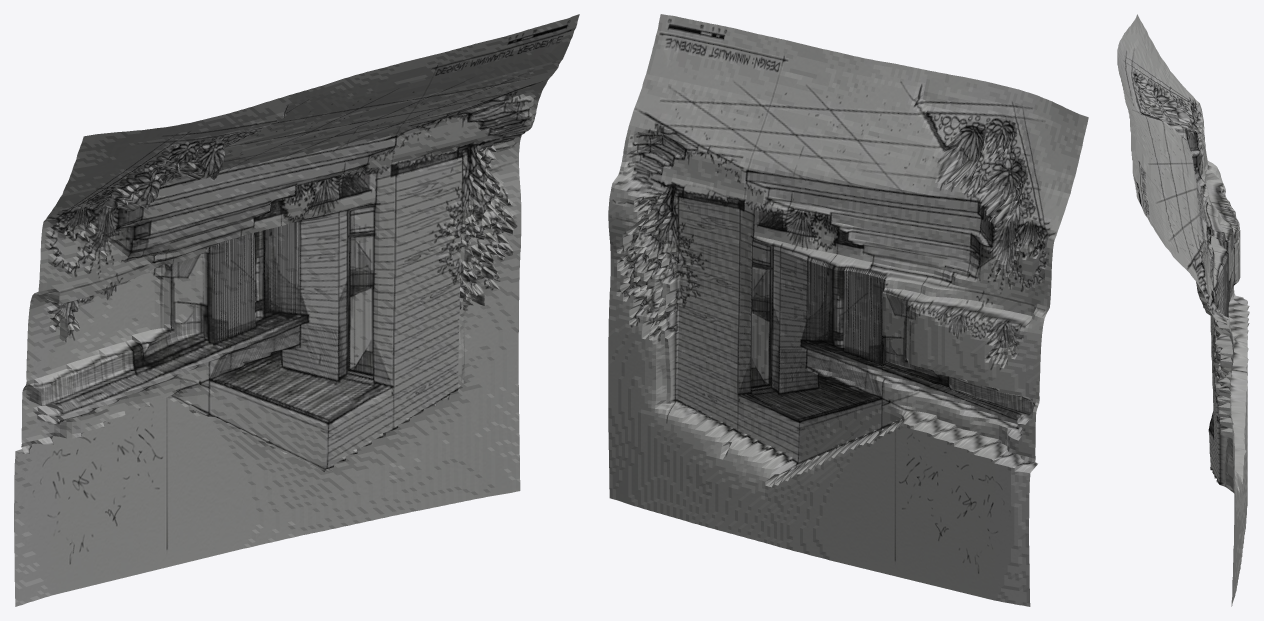
3 views of the same model, side by side, from view 1: azimuth 30°, elevation 25°; view 2: azimuth 150°, elevation 25°; view 3: azimuth 270°, elevation 25° (orthographic). The views are drawn at different scales.
Parts seen in each view (by area): view 1: world; view 2: world; view 3: world.
Boxes of the visible parts, bbox=[...] form: world: bbox=[14, 14, 579, 606]; world: bbox=[608, 14, 1088, 606]; world: bbox=[1117, 14, 1249, 606].
Bounding box in the file's own units: 1 × 1 × 0.2965.
1 material, 1 textured.
